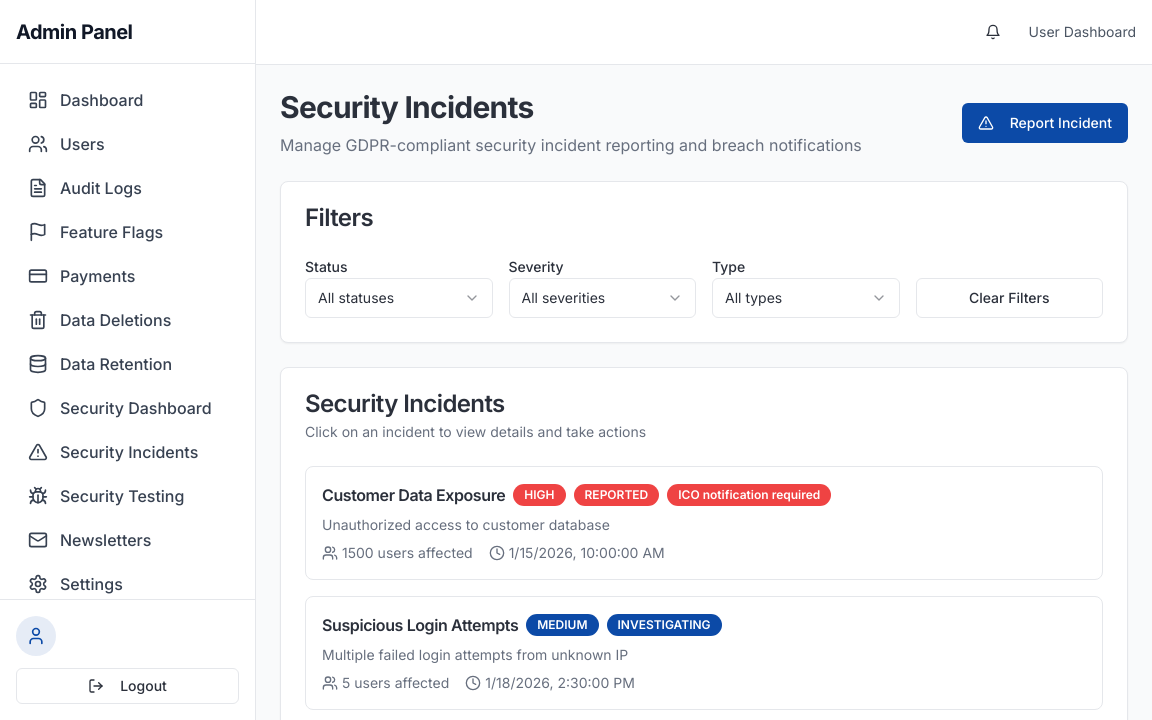
Test: AdminSecurityIncidents › Update Incident Status › should open status update dialog
Click the heading "Customer Data Exposure" at [414, 495], box [322,483,505,507]
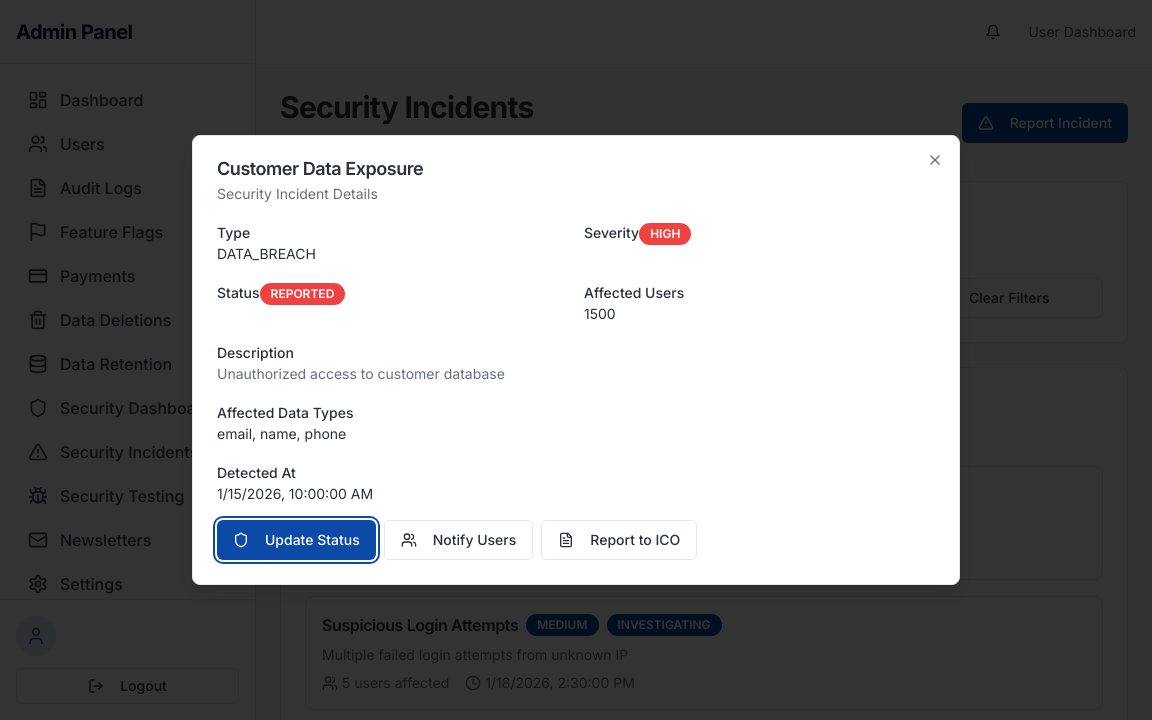
Now the button "Update Status" is shown
Click the button "Update Status" at [296, 540], box [217,520,376,560]
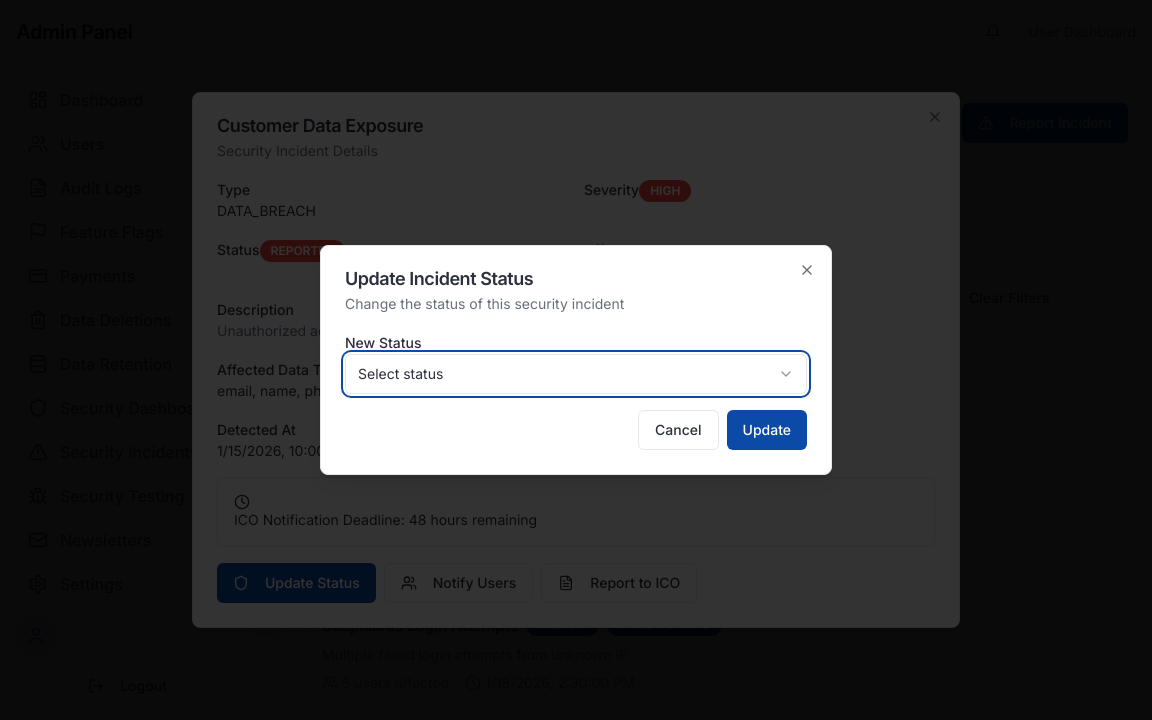
Now the heading "Update Incident Status" is shown, box [345,268,533,289]
